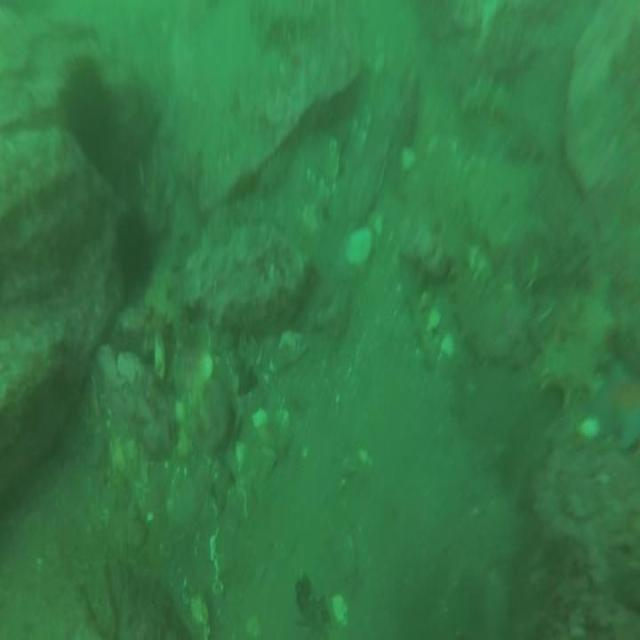echinus: (57, 55, 116, 163), (110, 204, 156, 300)
holothurian: (540, 289, 615, 398), (450, 268, 513, 364), (144, 272, 196, 360), (458, 71, 522, 130)
starfish: (602, 377, 640, 453)
